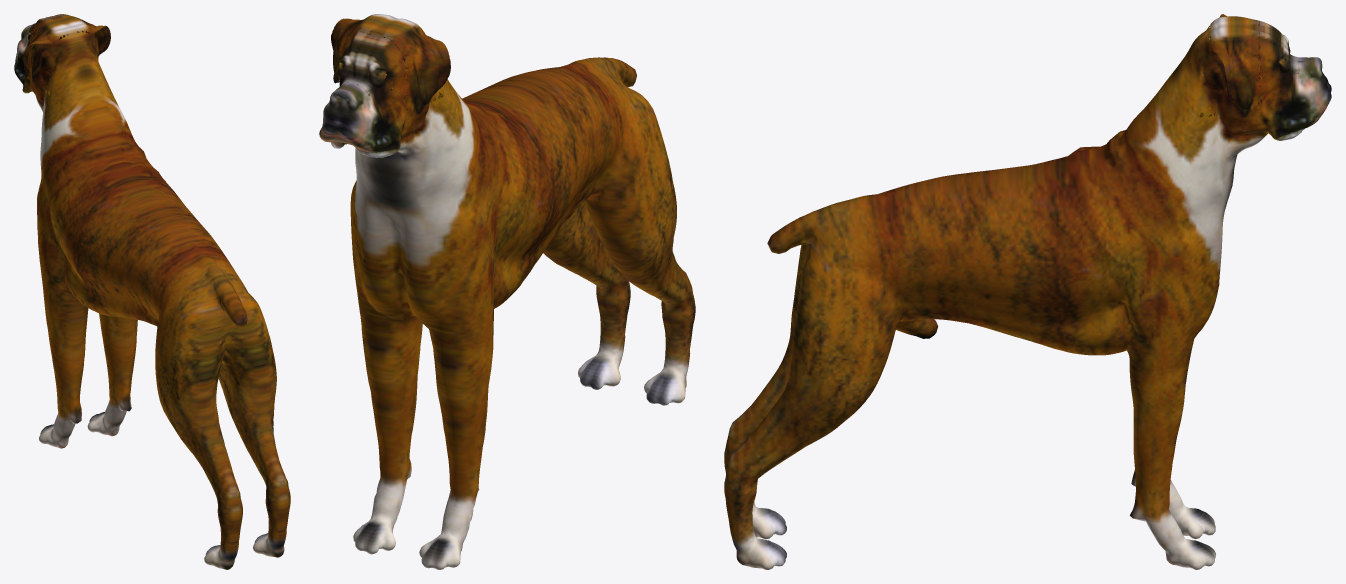
File: boxer.gltf
The picture shows the model from 3 angles, left to right: view 1: azimuth 30°, elevation 25°; view 2: azimuth 150°, elevation 25°; view 3: azimuth 270°, elevation 25°; orthographic projection. The views are drawn at different scales.
Parts seen in each view (by area): view 1: boxer; view 2: boxer; view 3: boxer.
Boxes of the visible parts, left/top/right/bottom form: boxer: left=14, top=14, right=290, bottom=569; boxer: left=319, top=14, right=695, bottom=569; boxer: left=724, top=14, right=1331, bottom=569.
Bounding box in the file's own units: 0.4272 × 1.49 × 1.56.
1 material, 1 textured.
